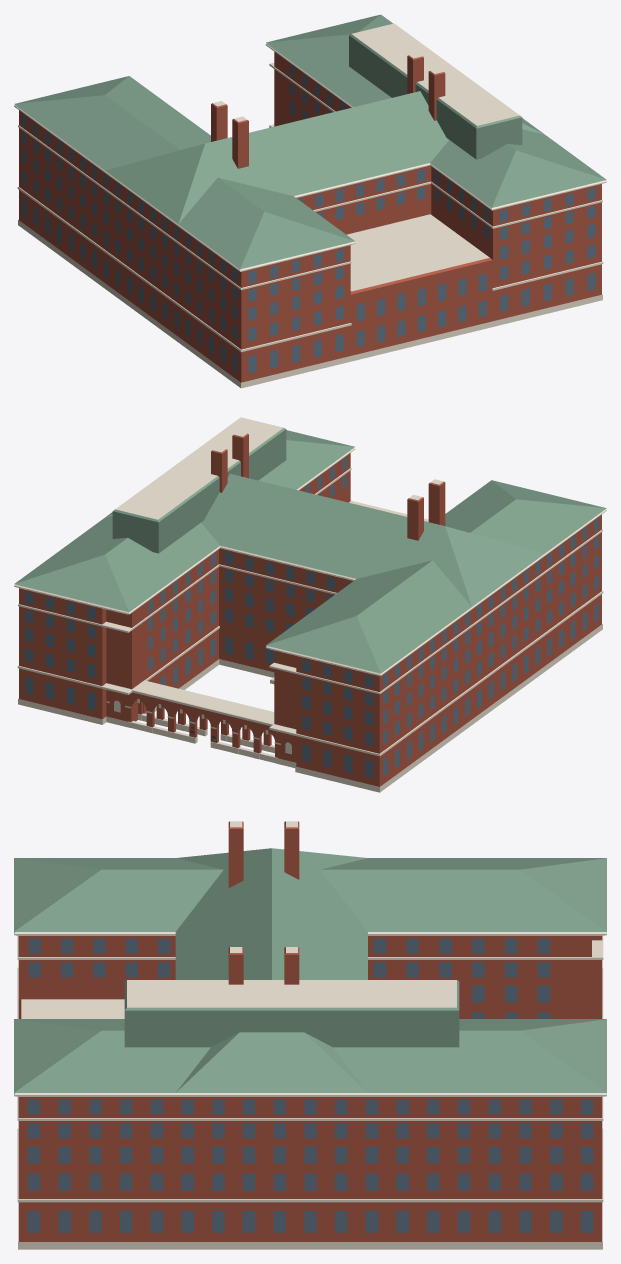
Rendered from nyc-nyu-law-vanderbilt-hall.glb.
3 views of the same model, one above another, from view 1: azimuth 30°, elevation 25°; view 2: azimuth 150°, elevation 25°; view 3: azimuth 270°, elevation 25° (orthographic). The views are drawn at different scales.
Parts seen in each view (by area): view 1: Vanderbilt Hall; view 2: Vanderbilt Hall; view 3: Vanderbilt Hall.
Boxes of the visible parts, x1=… form: Vanderbilt Hall: x1=14, y1=14, x2=606, y2=388; Vanderbilt Hall: x1=14, y1=417, x2=606, y2=792; Vanderbilt Hall: x1=14, y1=821, x2=606, y2=1249.
Bounding box in the file's own units: 59.8 × 29.3 × 63.8.
